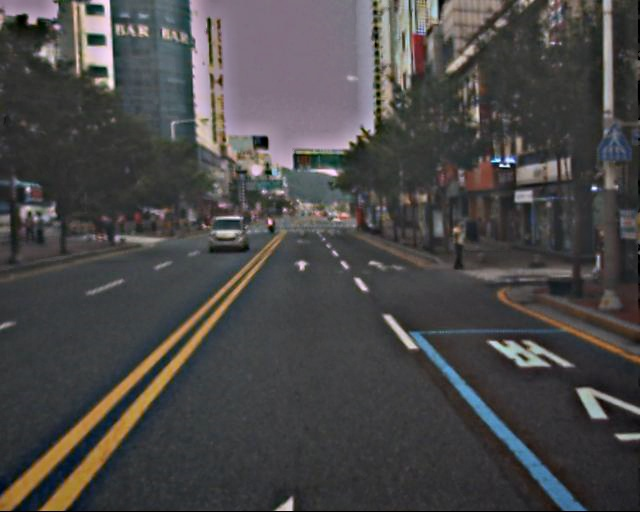person: (449, 220, 472, 277)
